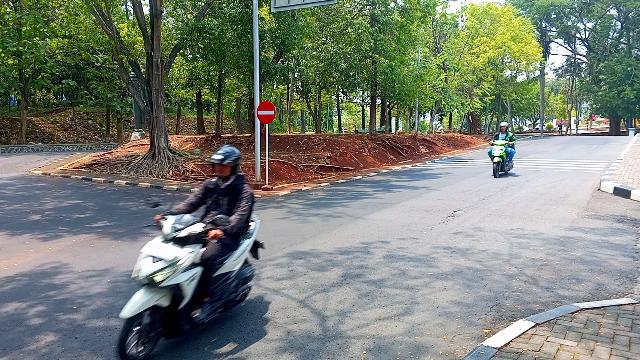helm: (211, 148, 243, 179)
motor: (117, 216, 265, 360), (491, 141, 515, 179), (501, 123, 510, 133)
